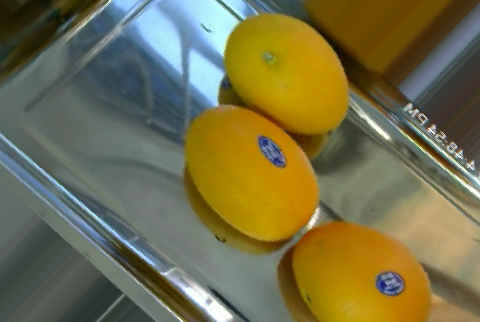Orange: (184, 105, 321, 242), (223, 13, 350, 135), (291, 221, 433, 322)
